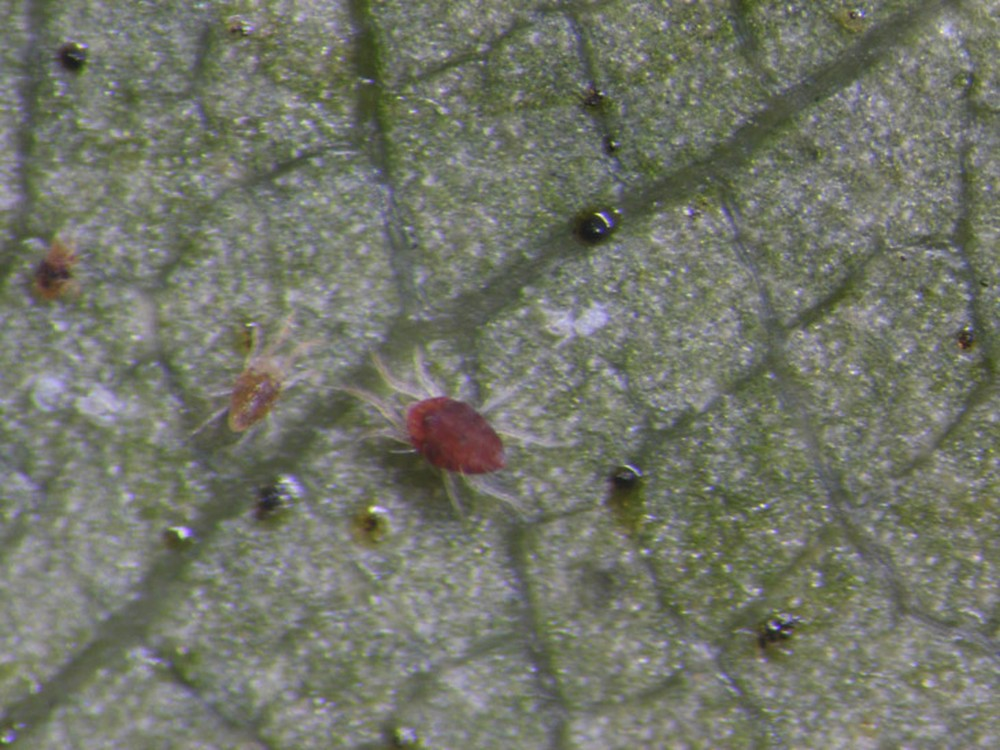Aracnido Rojo: (342, 334, 582, 536), (173, 304, 328, 449)
